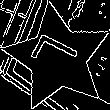L_SE: (28, 32, 87, 83)
